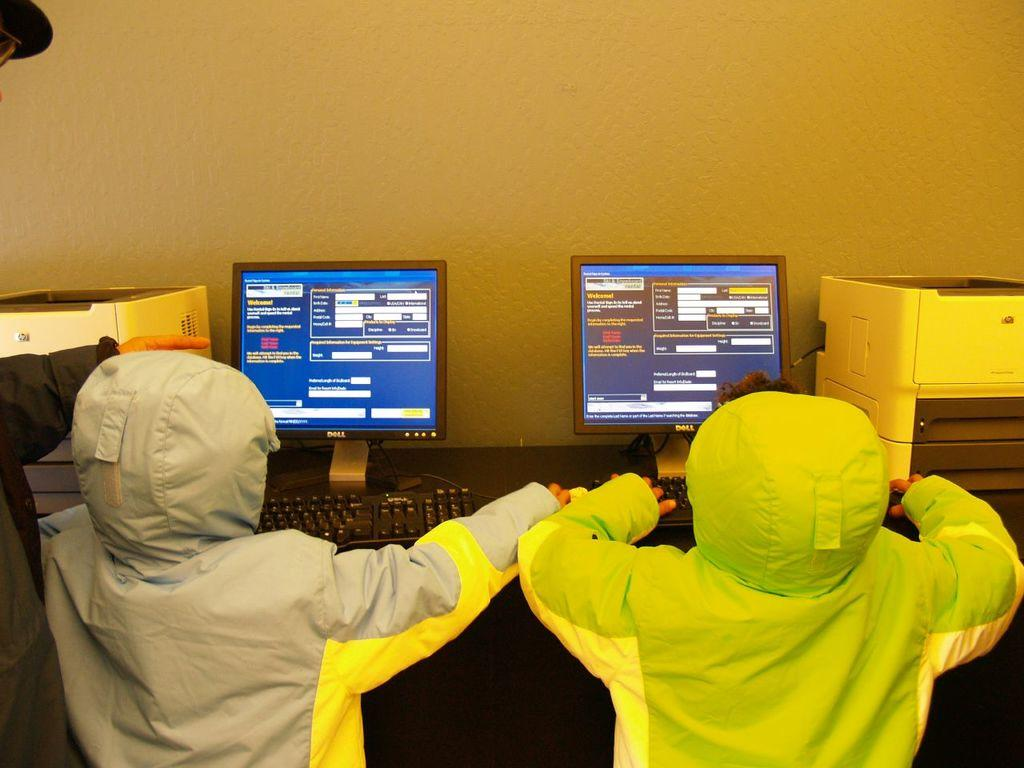Computer-monitor: (570, 255, 791, 479), (220, 267, 450, 467)
